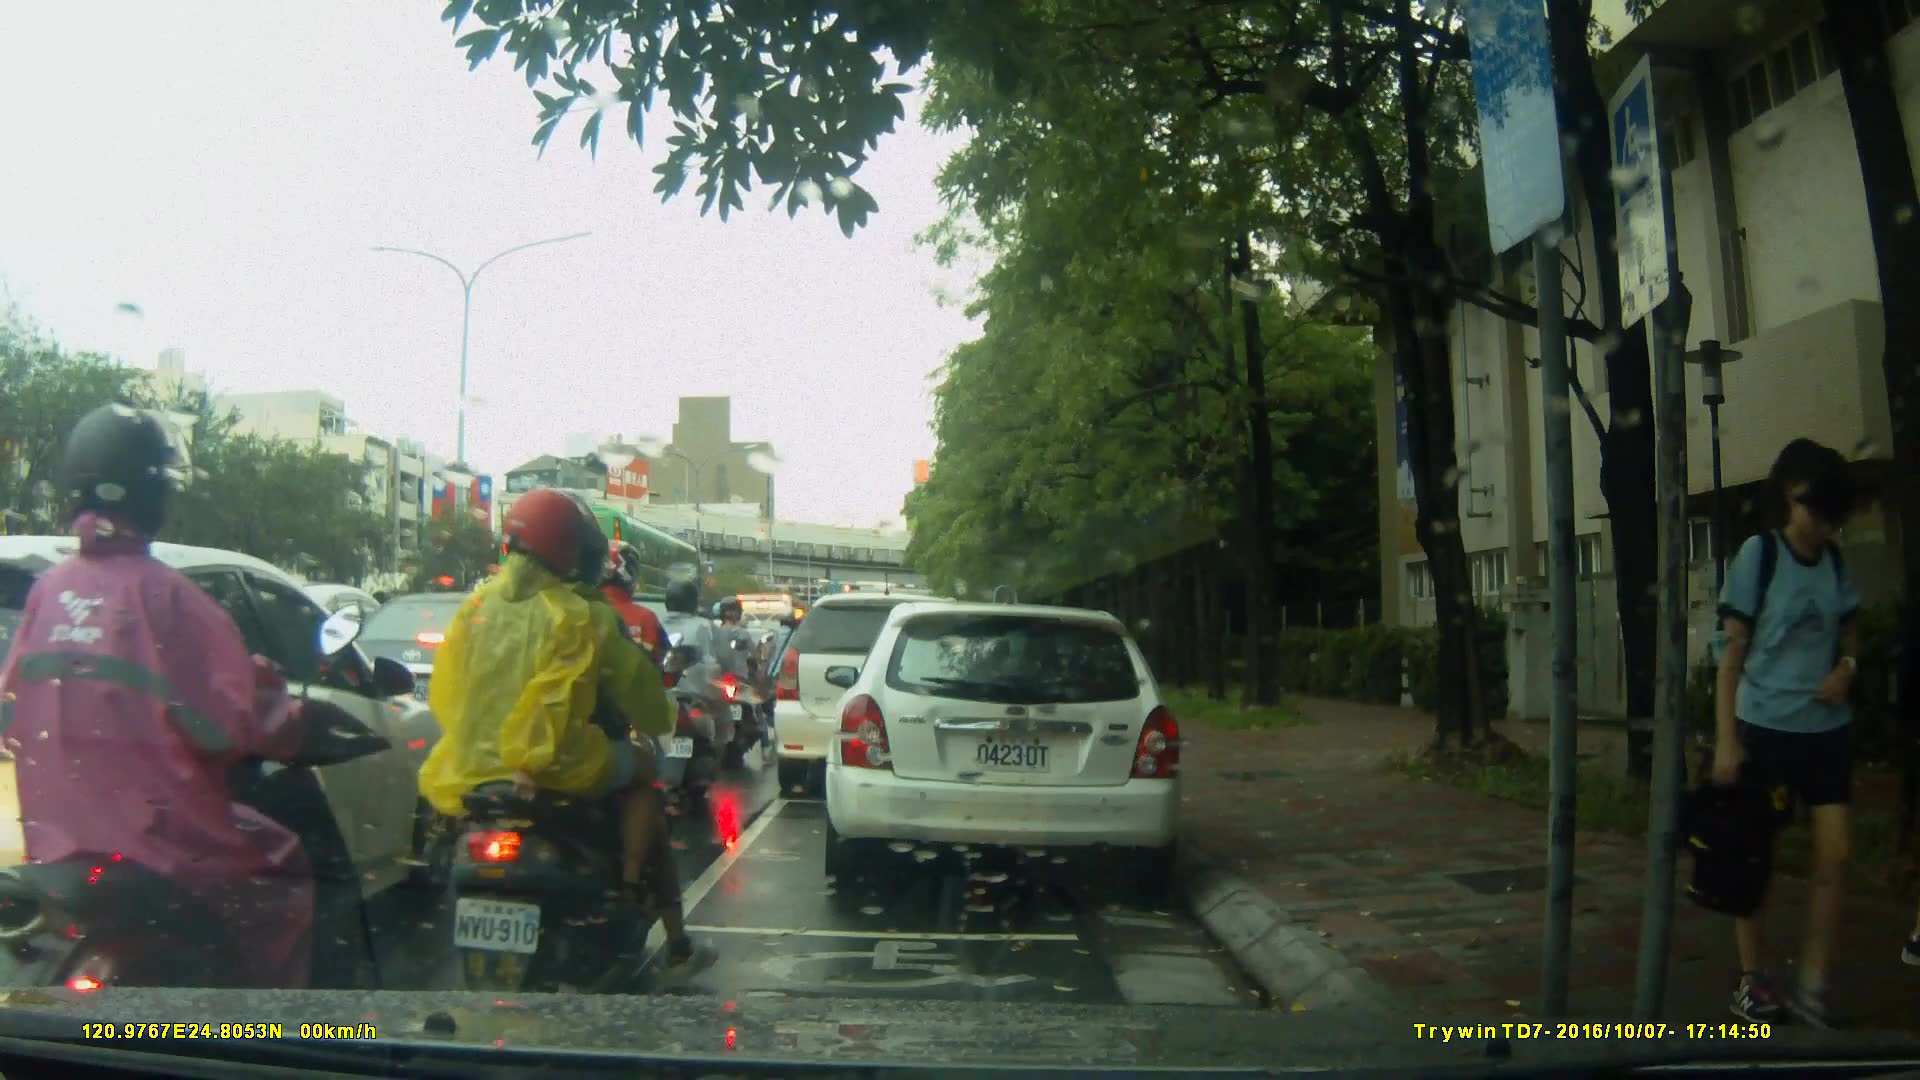pedestrian: (1687, 435, 1890, 1012), (1885, 498, 1920, 967)
rider: (2, 415, 395, 1063), (425, 489, 671, 1005), (551, 541, 686, 850), (642, 580, 739, 802), (708, 590, 769, 763), (762, 607, 816, 732)
vehicle: (3, 534, 462, 988), (831, 592, 1196, 897), (320, 590, 629, 776), (770, 590, 999, 804), (495, 499, 708, 636)
